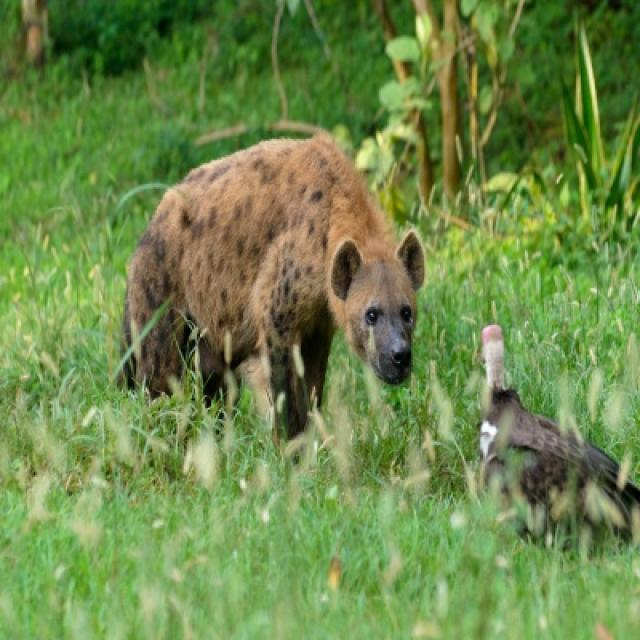hyena: (112, 131, 427, 453)
